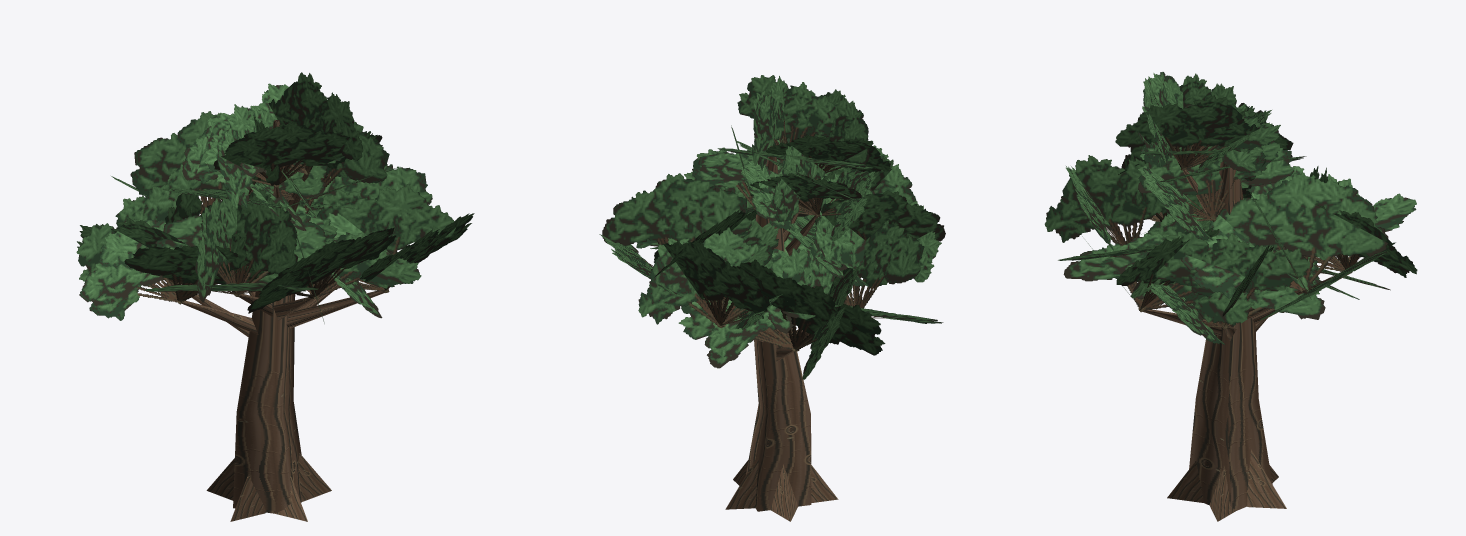
The model's file is broad-oak-mobile.glb.
3 renders of one model, left to right at view 1: azimuth 30°, elevation 25°; view 2: azimuth 150°, elevation 25°; view 3: azimuth 270°, elevation 25°, orthographic. The views are drawn at different scales.
Parts seen in each view (by area): view 1: Broad oak mobile v3 runtime; view 2: Broad oak mobile v3 runtime; view 3: Broad oak mobile v3 runtime.
Part boxes in pixels (x1=…): Broad oak mobile v3 runtime: x1=76, y1=72, x2=474, y2=521; Broad oak mobile v3 runtime: x1=599, y1=75, x2=945, y2=521; Broad oak mobile v3 runtime: x1=1044, y1=72, x2=1417, y2=521.
Bounding box in the file's own units: 7.45 × 7.91 × 6.68.
Materials: 1 (1 with a texture image).
